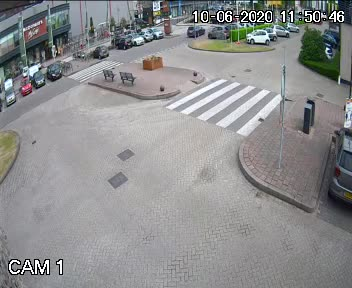car: (185, 21, 204, 41)
